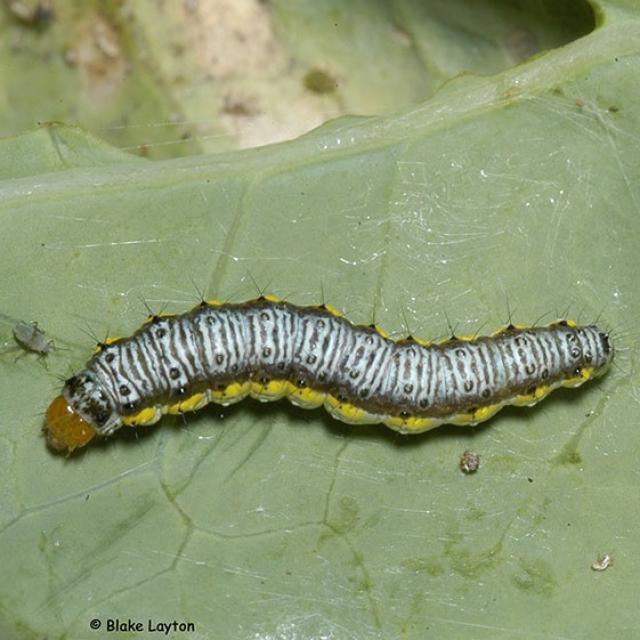Cabbage-worm: (50, 287, 616, 467)
